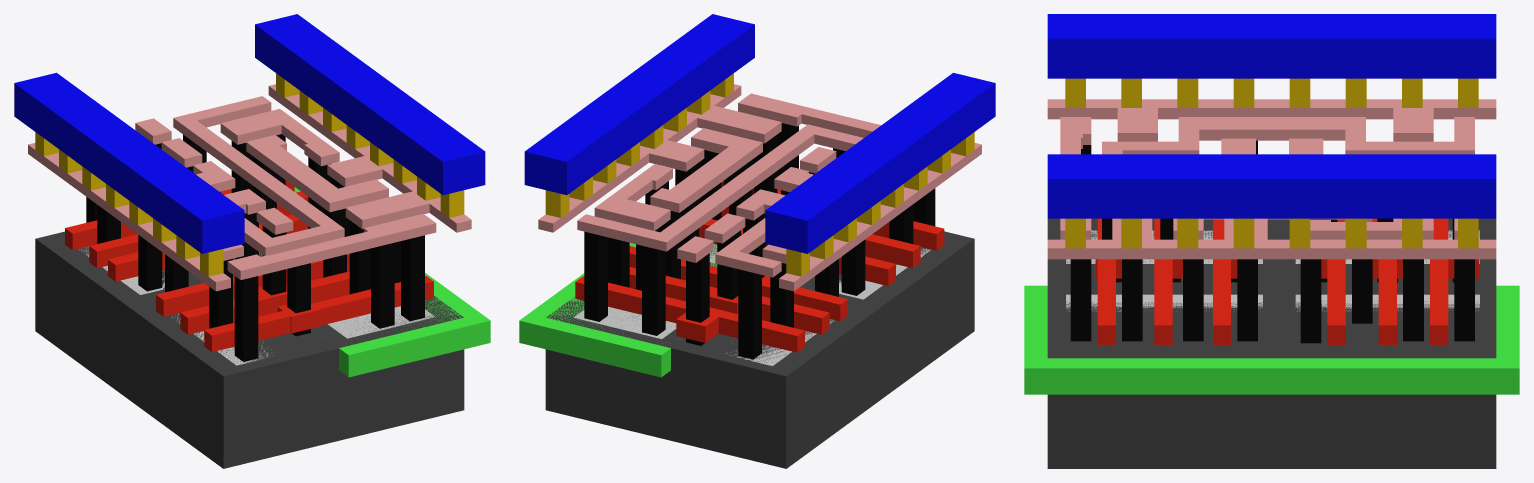
File: sky130_fd_sc_hd__a221o_1.obj
3 views of the same model, side by side, from view 1: azimuth 30°, elevation 25°; view 2: azimuth 150°, elevation 25°; view 3: azimuth 270°, elevation 25° (orthographic). The views are drawn at different scales.
Parts seen in each view (by area): view 1: subs, metal1, li, licon, poly, mcon, nwell, tap, diff; view 2: subs, metal1, li, licon, poly, nwell, mcon, tap, diff; view 3: metal1, subs, li, nwell, licon, poly, mcon, tap, diff.
Boxes of the visible parts, box(x1,y1,x2,y2) form: subs: box(35, 231, 464, 468); metal1: box(14, 14, 485, 253); li: box(28, 84, 471, 291); licon: box(86, 134, 424, 361); poly: box(65, 180, 433, 351); mcon: box(35, 73, 464, 276); nwell: box(259, 187, 490, 377); tap: box(259, 253, 435, 338); diff: box(79, 246, 273, 365); subs: box(545, 231, 974, 468); metal1: box(524, 14, 995, 253); li: box(538, 84, 981, 291); licon: box(584, 123, 935, 359); poly: box(575, 181, 944, 352); nwell: box(519, 243, 717, 377); mcon: box(545, 73, 974, 276); tap: box(574, 244, 717, 338); diff: box(726, 247, 931, 365); metal1: box(1047, 14, 1496, 218); subs: box(1047, 218, 1496, 468); li: box(1047, 99, 1496, 259); nwell: box(1024, 285, 1519, 394); licon: box(1070, 140, 1474, 343); poly: box(1095, 218, 1479, 345); mcon: box(1065, 78, 1478, 248); tap: box(1066, 294, 1479, 311); diff: box(1066, 230, 1479, 263).
Size of the model in its own units: 3.2 by 2.74 by 4.06.
